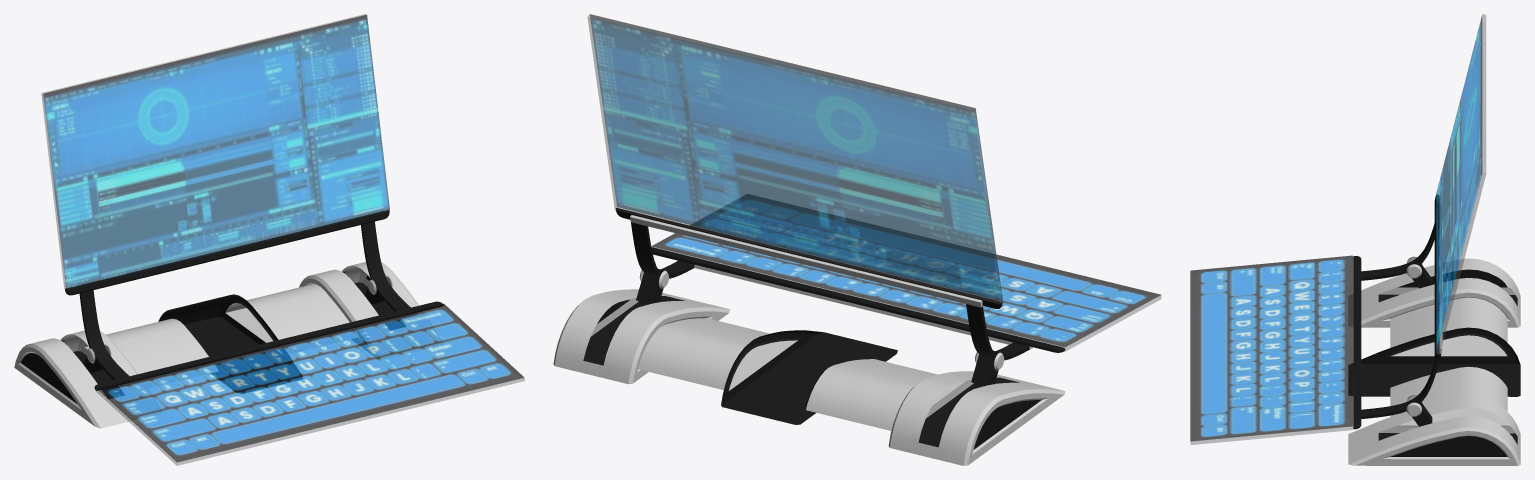
The model's file is computer-console.glb.
The picture shows the model from 3 angles, left to right: view 1: azimuth 30°, elevation 25°; view 2: azimuth 150°, elevation 25°; view 3: azimuth 270°, elevation 25°; orthographic projection. The views are drawn at different scales.
Parts seen in each view (by area): view 1: Plane.002_digital_displays_0, Circle_metal_1_0, Circle_metal_2_0, Plane.002_digital_display_sides_0; view 2: Plane.002_digital_displays_0, Plane.002_digital_display_sides_0, Circle_metal_1_0, Circle_metal_2_0; view 3: Plane.002_digital_displays_0, Circle_metal_1_0, Circle_metal_2_0, Plane.002_digital_display_sides_0.
Part boxes in pixels (x1,y1,x2,y2): Plane.002_digital_displays_0: [43, 15, 523, 462]; Circle_metal_1_0: [14, 262, 443, 428]; Circle_metal_2_0: [21, 210, 443, 404]; Plane.002_digital_display_sides_0: [41, 14, 524, 465]; Plane.002_digital_displays_0: [590, 14, 1160, 346]; Plane.002_digital_display_sides_0: [587, 14, 1161, 351]; Circle_metal_1_0: [553, 215, 1065, 465]; Circle_metal_2_0: [583, 208, 1065, 449]; Plane.002_digital_displays_0: [1190, 15, 1482, 441]; Circle_metal_1_0: [1348, 204, 1520, 465]; Circle_metal_2_0: [1348, 194, 1520, 456]; Plane.002_digital_display_sides_0: [1190, 14, 1485, 444].
Size of the model in its own units: 1.48 by 1.16 by 1.21.
Materials: 4 (1 with a texture image).
